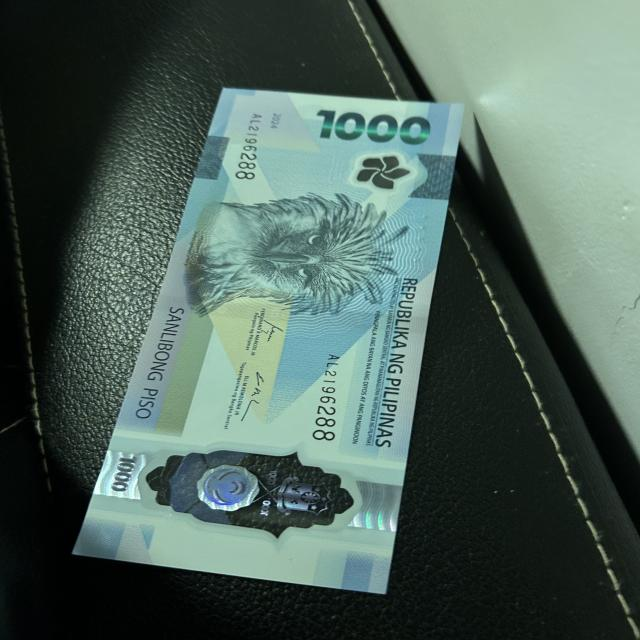clear_window: (145, 446, 358, 539)
eagle: (196, 195, 383, 307)
sampaguita: (352, 152, 406, 188)
